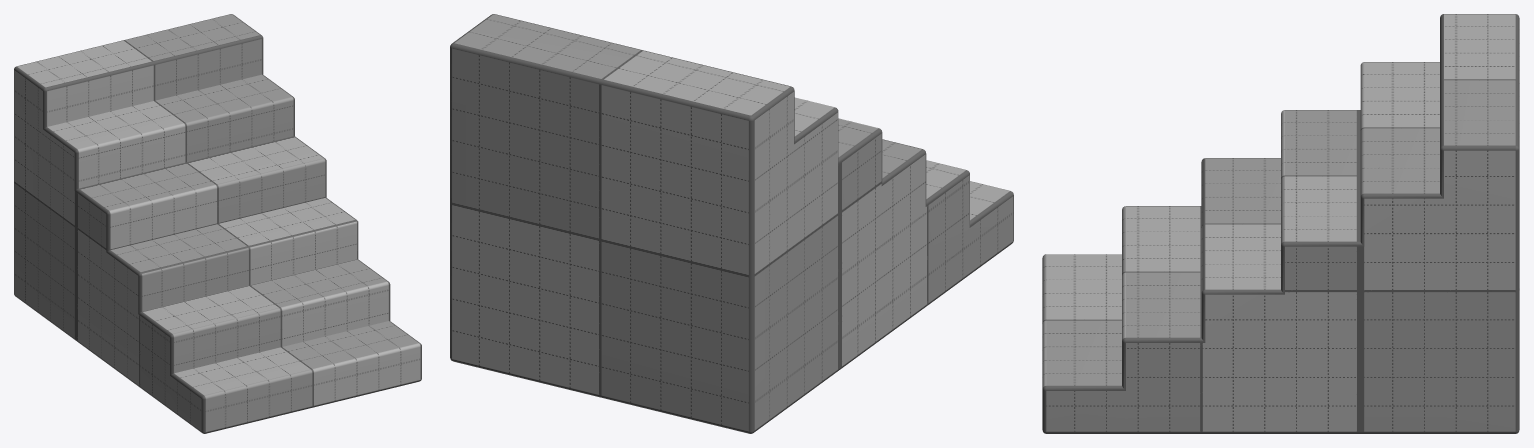
The model's file is Stairs1x1x1_50.fbx.
The picture shows the model from 3 angles, left to right: view 1: azimuth 30°, elevation 25°; view 2: azimuth 150°, elevation 25°; view 3: azimuth 270°, elevation 25°; orthographic projection. The views are drawn at different scales.
Parts seen in each view (by area): view 1: Stairs1x1x1_50; view 2: Stairs1x1x1_50; view 3: Stairs1x1x1_50.
Boxes of the visible parts, x1,y1,x2,y2 form: Stairs1x1x1_50: (14,14,421,433); Stairs1x1x1_50: (450,14,1013,433); Stairs1x1x1_50: (1042,14,1519,433).
Size of the model in its own units: 100 by 100 by 150.
